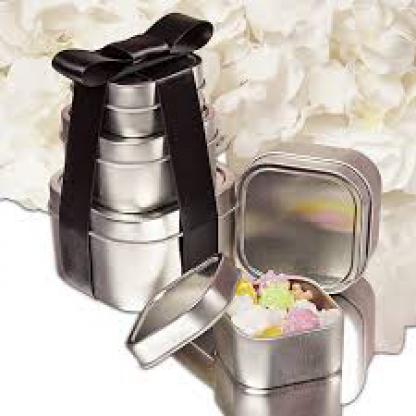BIODEGRADABLE: (231, 272, 331, 333)
METAL: (48, 163, 235, 314), (235, 140, 377, 294), (59, 100, 216, 211), (213, 276, 342, 390), (126, 252, 242, 376), (70, 48, 207, 137)
